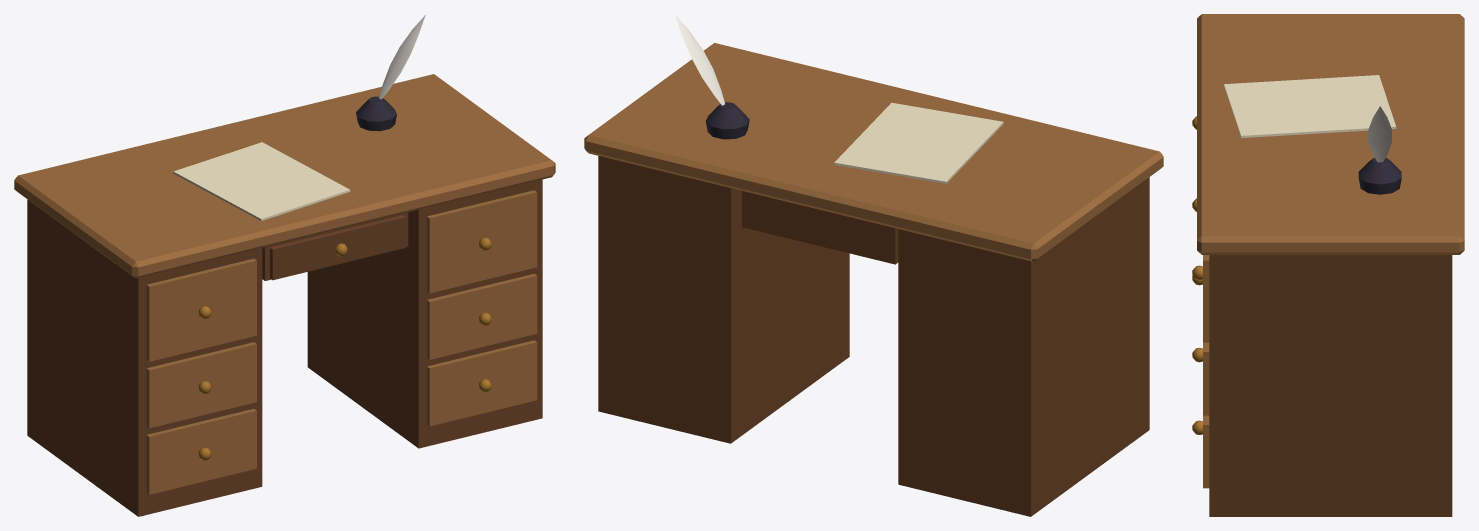
Rendered from desk-wood.glb.
3 views of the same model, side by side, from view 1: azimuth 30°, elevation 25°; view 2: azimuth 150°, elevation 25°; view 3: azimuth 270°, elevation 25° (orthographic). The views are drawn at different scales.
Visible parts, largest first — view 1: Desk pedestals, Desk top, Desk drawers, Desk paper, Desk centre drawer, Desk inkwell, Desk quill, Desk knobs; view 2: Desk pedestals, Desk top, Desk paper, Desk centre drawer, Desk inkwell, Desk quill; view 3: Desk pedestals, Desk top, Desk paper, Desk drawers, Desk inkwell, Desk quill, Desk knobs.
Part boxes in pixels (box(x1,y1,x2,y2)): Desk pedestals: box(27, 179, 542, 516); Desk top: box(14, 74, 555, 278); Desk drawers: box(146, 190, 537, 494); Desk paper: box(173, 142, 350, 220); Desk centre drawer: box(262, 212, 408, 280); Desk inkwell: box(356, 96, 396, 131); Desk quill: box(379, 14, 425, 99); Desk knobs: box(198, 237, 491, 460); Desk pedestals: box(598, 156, 1149, 516); Desk top: box(584, 43, 1163, 261); Desk paper: box(834, 102, 1003, 183); Desk centre drawer: box(742, 191, 898, 264); Desk inkwell: box(705, 102, 749, 139); Desk quill: box(675, 15, 724, 105); Desk pedestals: box(1209, 255, 1452, 516); Desk top: box(1197, 14, 1464, 254); Desk paper: box(1224, 75, 1396, 137); Desk drawers: box(1203, 255, 1209, 488); Desk inkwell: box(1358, 157, 1401, 194); Desk quill: box(1368, 106, 1391, 162); Desk knobs: box(1192, 116, 1202, 434).
Bounding box in the file's own units: 1.3 × 1.05 × 0.6611.
